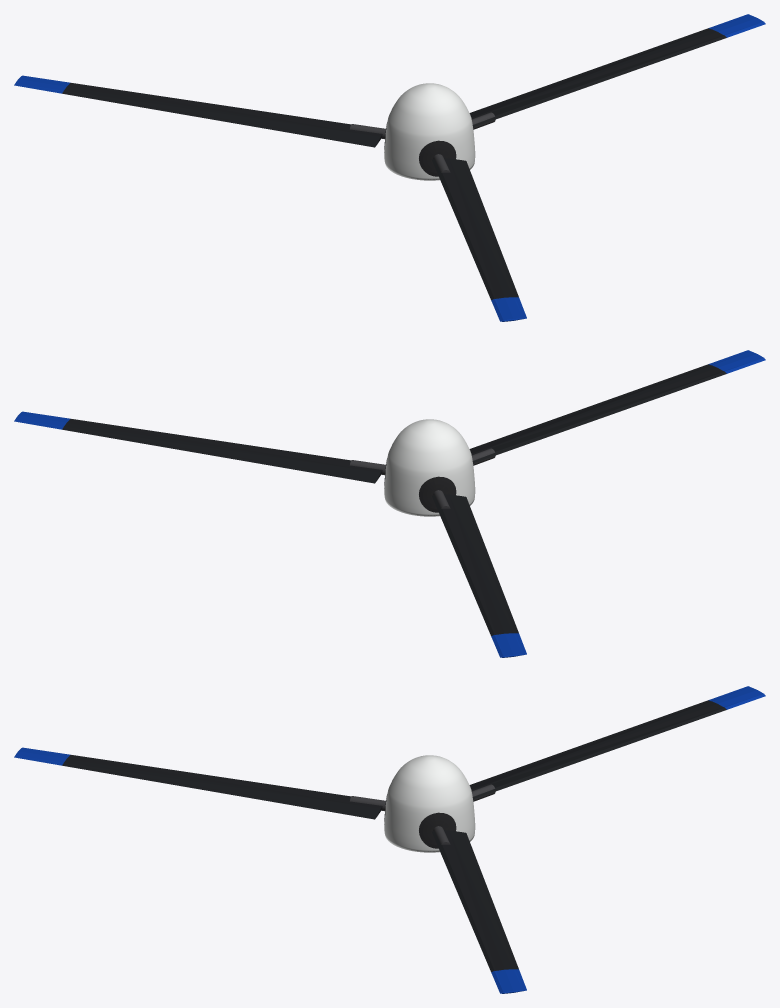
File: rotor_3.glb
The picture shows the model from 3 angles, top to bottom: view 1: azimuth 30°, elevation 25°; view 2: azimuth 150°, elevation 25°; view 3: azimuth 270°, elevation 25°; orthographic projection.
Visible parts, largest first — view 1: rotor_3; view 2: rotor_3; view 3: rotor_3.
Boxes of the visible parts, left/top/right/bottom form: rotor_3: left=14, top=14, right=765, bottom=321; rotor_3: left=14, top=350, right=765, bottom=657; rotor_3: left=14, top=686, right=765, bottom=993.
Bounding box in the file's own units: 4.61 × 0.5303 × 4.78.
